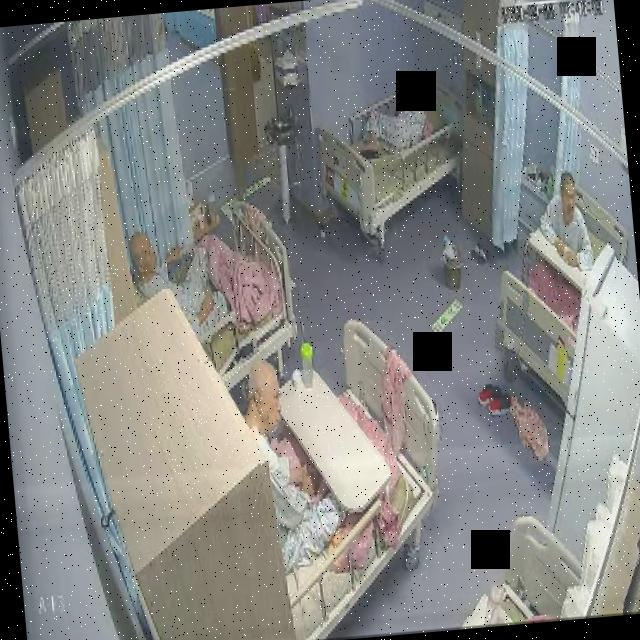bed: (254, 315, 455, 640), (483, 179, 640, 414), (160, 198, 301, 399), (312, 72, 466, 238)
lie: (355, 92, 433, 170)
patient: (238, 347, 352, 573), (125, 212, 224, 340), (534, 168, 596, 274), (354, 92, 434, 168)
sit: (236, 346, 350, 578), (124, 212, 224, 338), (534, 167, 594, 273)
